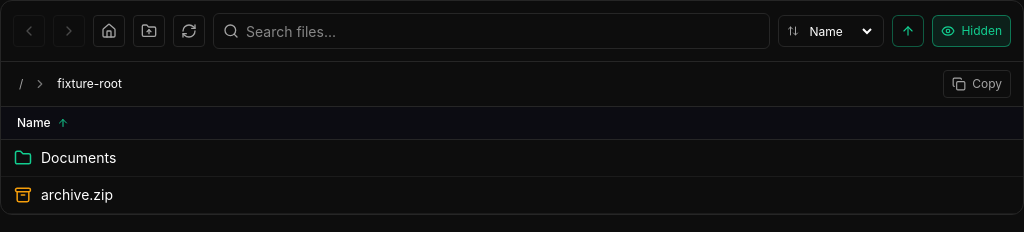
Test case: FileExplorer › navigates into a container node
The image size is (1024, 232).
Click the button "Documents": (79, 158) [13,148,1011,168]
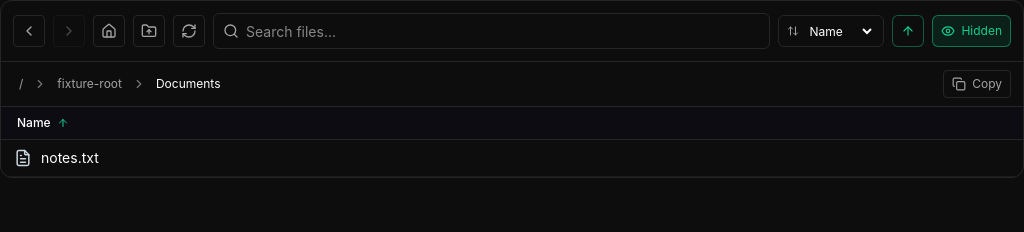
Expected: the text "notes.txt" is shown, [41,148,99,168]
